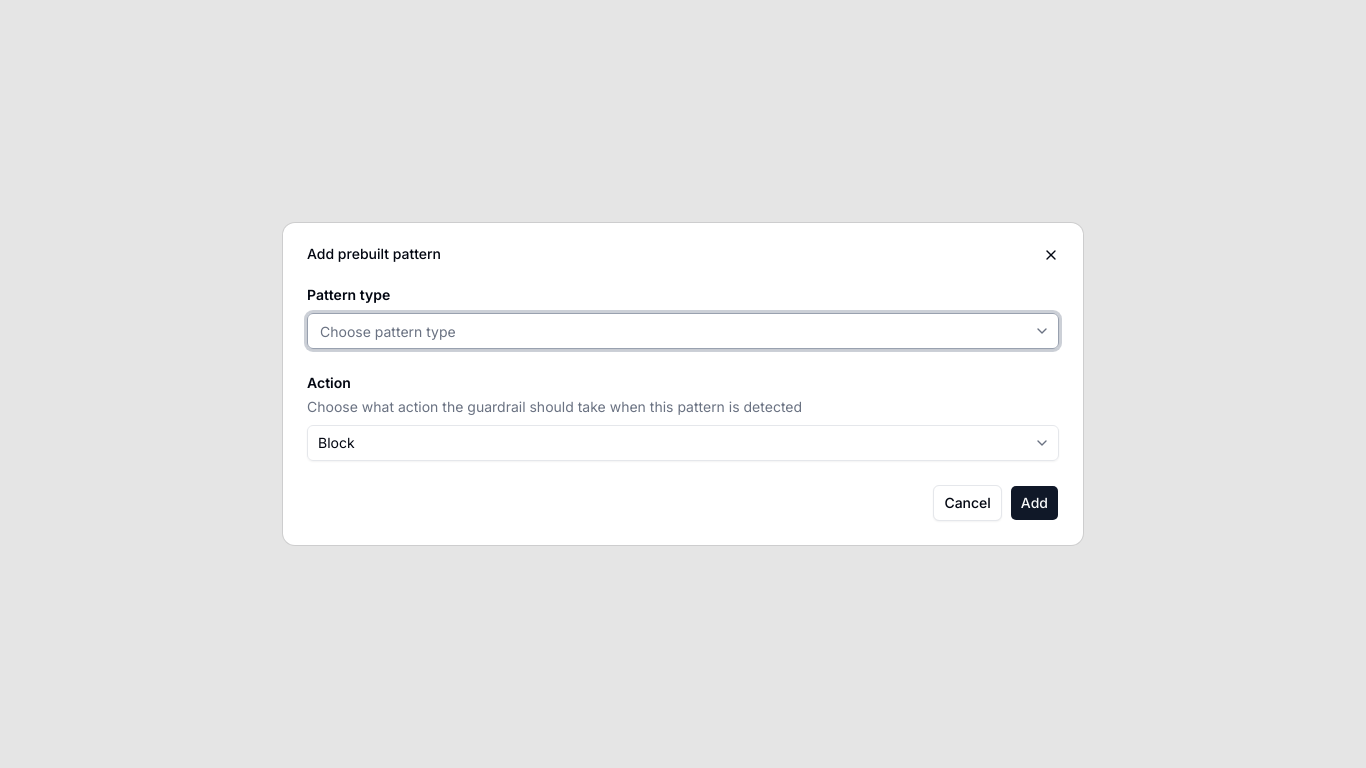
PatternModal › should match the internal pattern name when it is absent from the display name
The image size is (1366, 768).
Expected: the heading "Add prebuilt pattern" is shown, top-left (307, 245), bottom-right (441, 262)
Click the dropdown with placeholder "Choose pattern type" at point(669, 331), box top-left (308, 313), bottom-right (1030, 349)
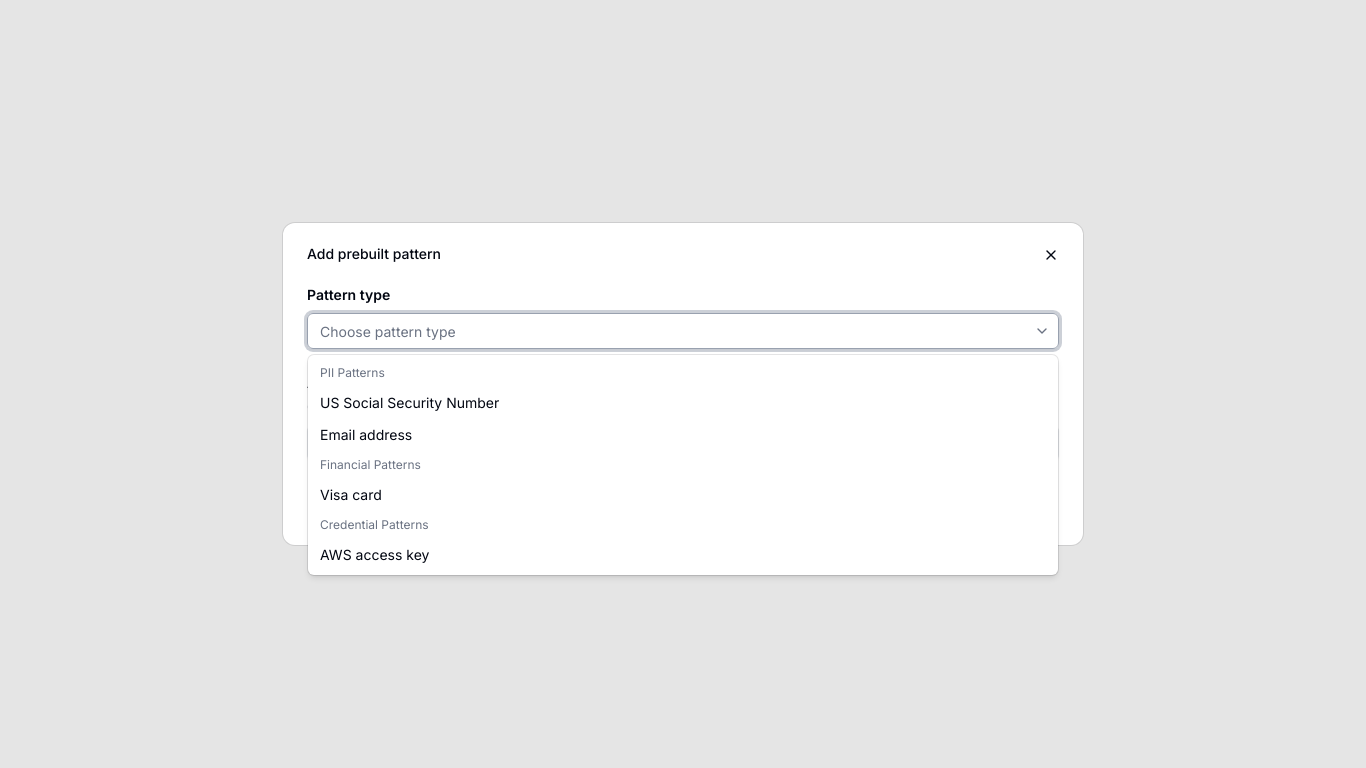
Type keys "ssn"
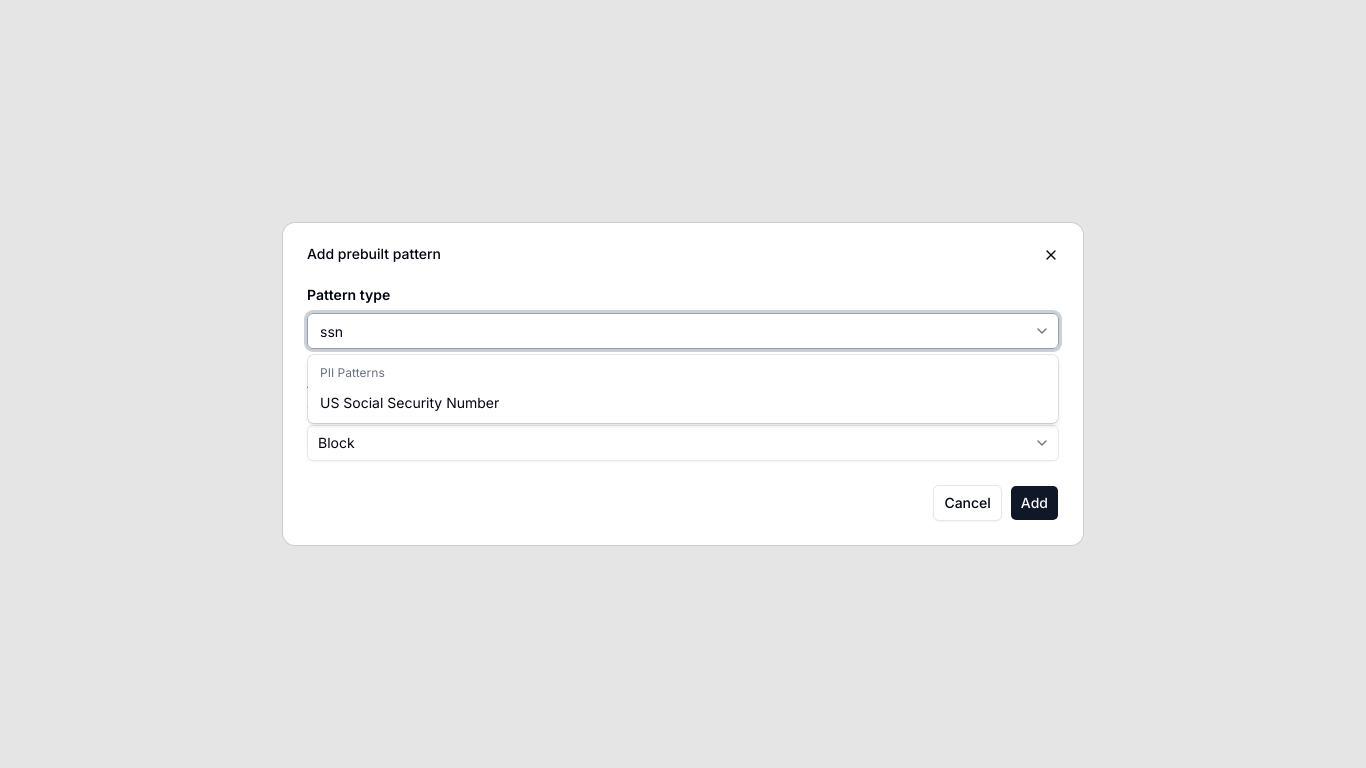
Now the option "US Social Security Number" is shown, box top-left (320, 394), bottom-right (499, 411)
Now the option "Email address" is gone
Now the option "Visa card" is gone
